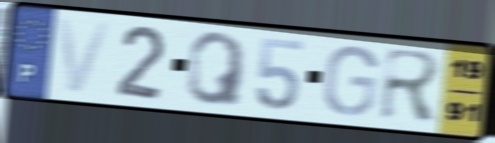2: (114, 23, 169, 104)
5: (253, 34, 306, 113)
G: (319, 43, 381, 119)
Q: (184, 30, 250, 109)
R: (377, 45, 444, 125)
V: (53, 15, 116, 95)
